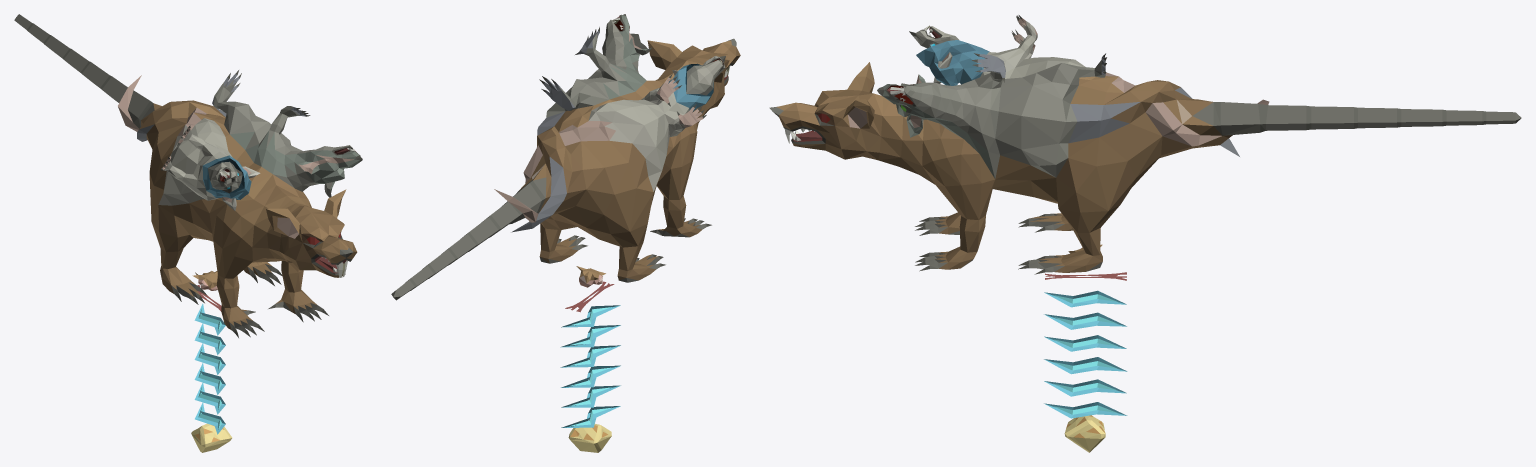
Rendered from scurrius.gltf.
3 renders of one model, left to right at view 1: azimuth 30°, elevation 25°; view 2: azimuth 150°, elevation 25°; view 3: azimuth 270°, elevation 25°, orthographic. The views are drawn at different scales.
Bounding box in the file's own units: 267 × 650 × 1062.
Materials: 2 (2 with a texture image).
